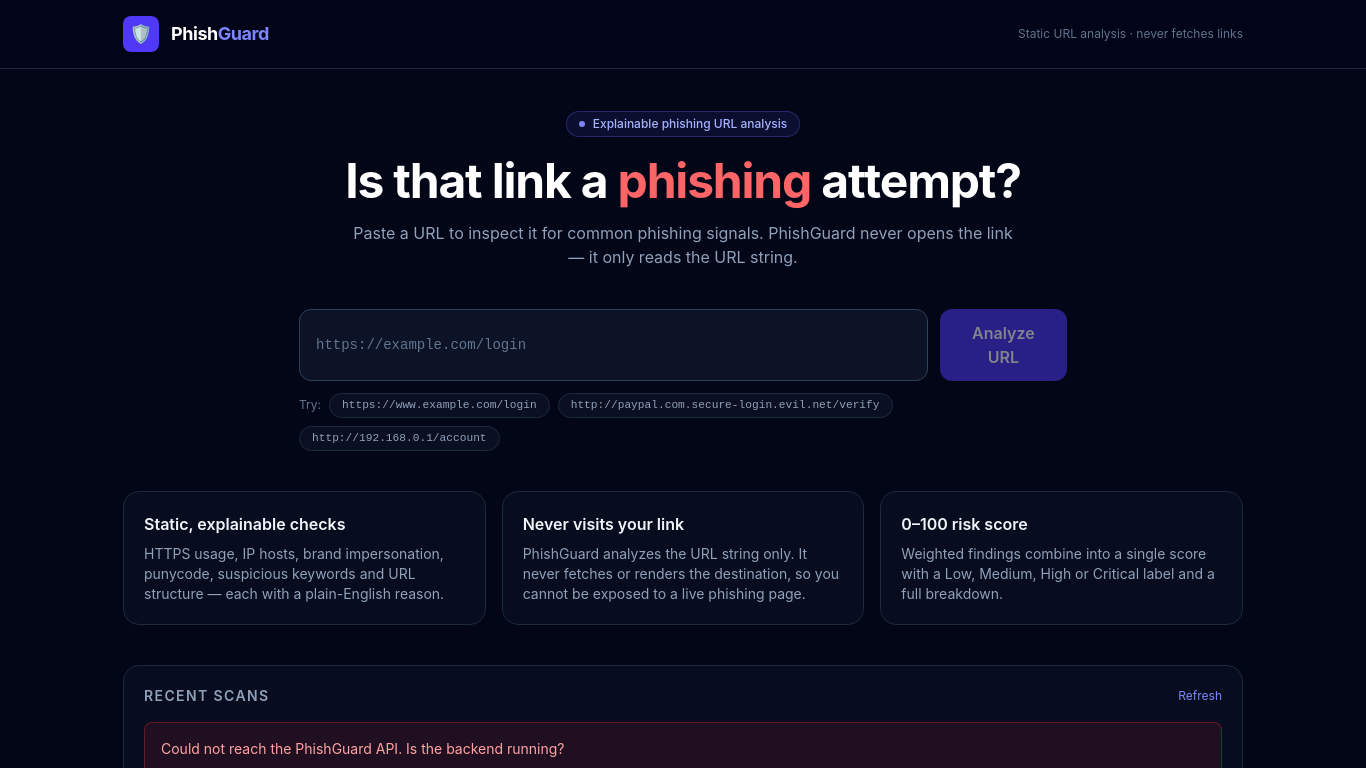
Test: dashboard › announces a history failure in an alert and recovers on Refresh
The image size is (1366, 768).
Expected: the message reads "Could not reach the PhishGuard API. Is the backend running?", [161, 740, 564, 757]
Click the button "Refresh" at x=1200, y=696, box [1178, 688, 1222, 704]
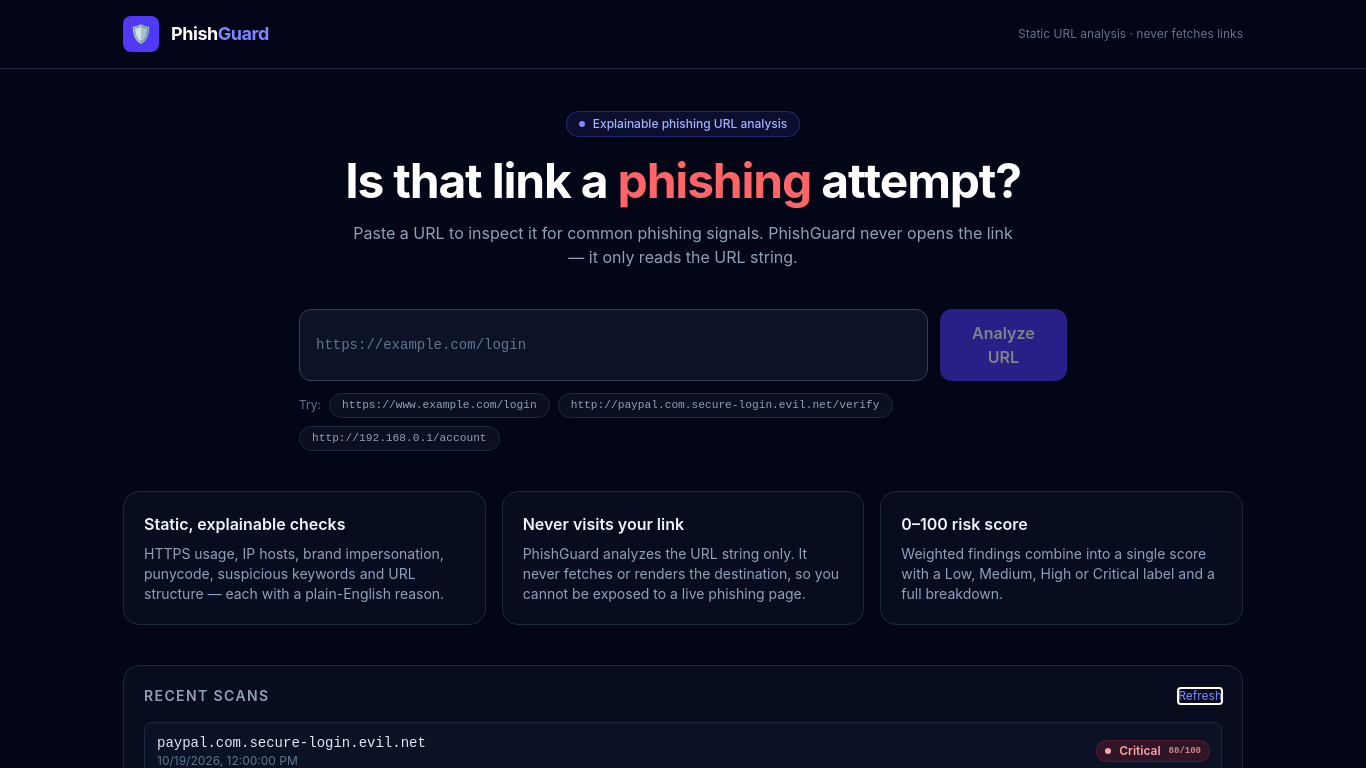
Expected: the text "paypal.com.secure-login.evil.net" is shown, [157, 733, 426, 753]
